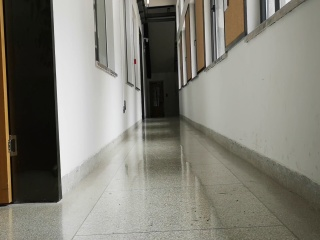room: (2, 2, 67, 205)
